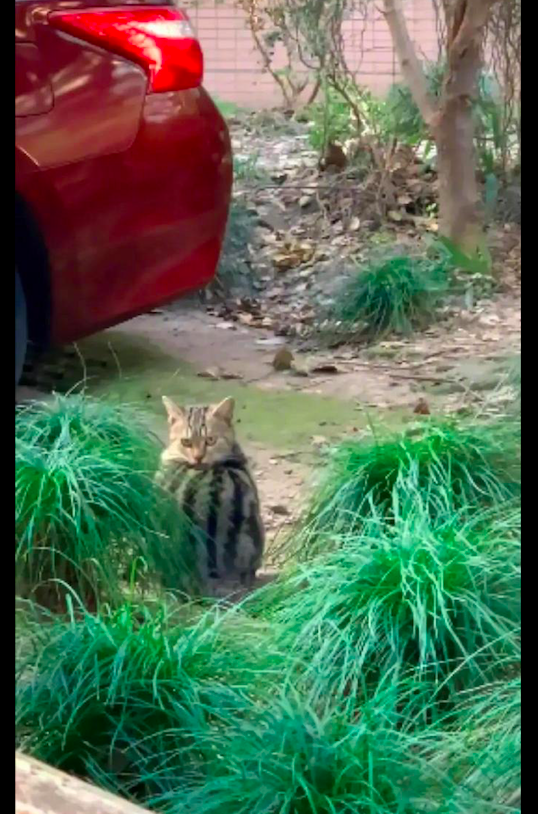cat: (153, 393, 251, 473)
